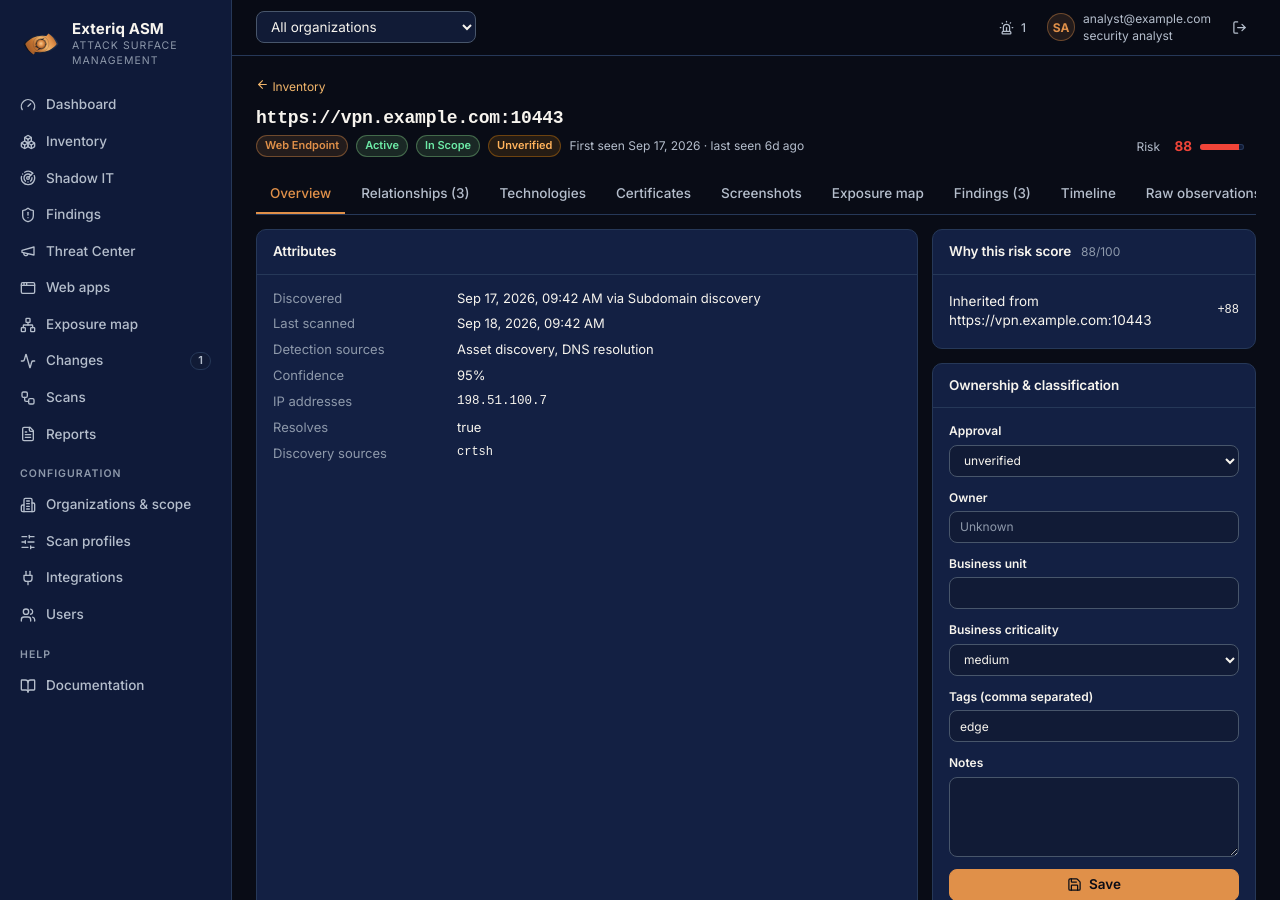
Test: Website screenshots › explains a disabled feature instead of offering the button
Step 1. Click the tab "Screenshots" → (761, 194), box [707, 174, 816, 214]
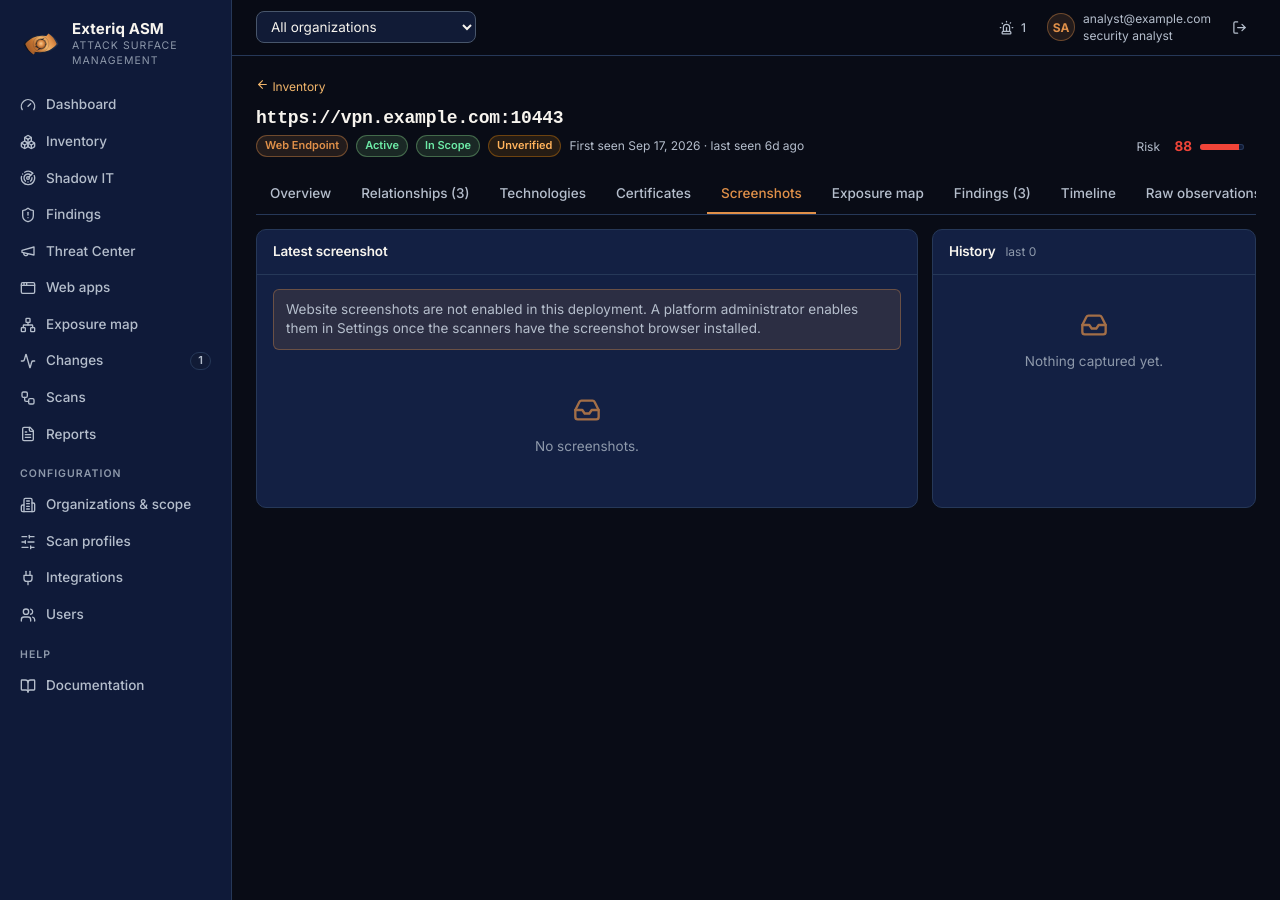
Check: the text "not enabled in this deployment" is shown, box [286, 301, 858, 336]
